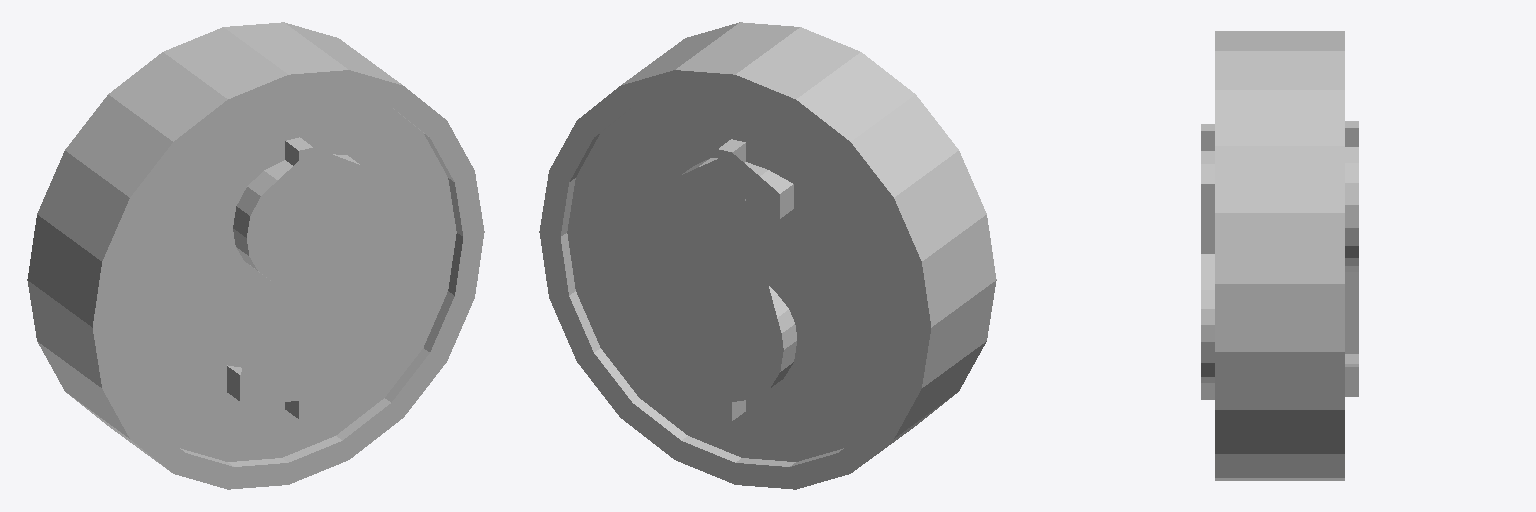
Rendered from coin.obj.
The picture shows the model from 3 angles: view 1: azimuth 30°, elevation 25°; view 2: azimuth 150°, elevation 25°; view 3: azimuth 270°, elevation 25°; orthographic projection.
Visible parts, largest first — view 1: coin1; view 2: coin1; view 3: coin1.
Part boxes in pixels (bbox=[...]): coin1: bbox=[27, 22, 484, 489]; coin1: bbox=[539, 22, 996, 489]; coin1: bbox=[1201, 31, 1358, 480].
Size of the model in its own units: 0.7388 by 0.7388 by 0.2585.